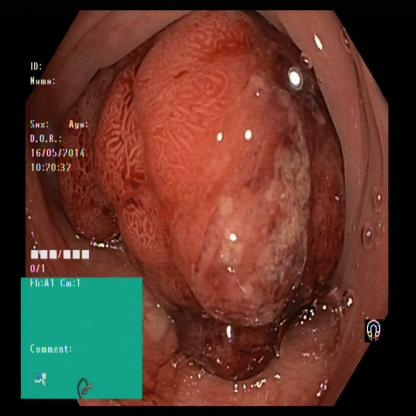Labels: (25, 59, 109, 275), (17, 278, 145, 399), (360, 299, 384, 340)
Polyps: (132, 42, 313, 298)
